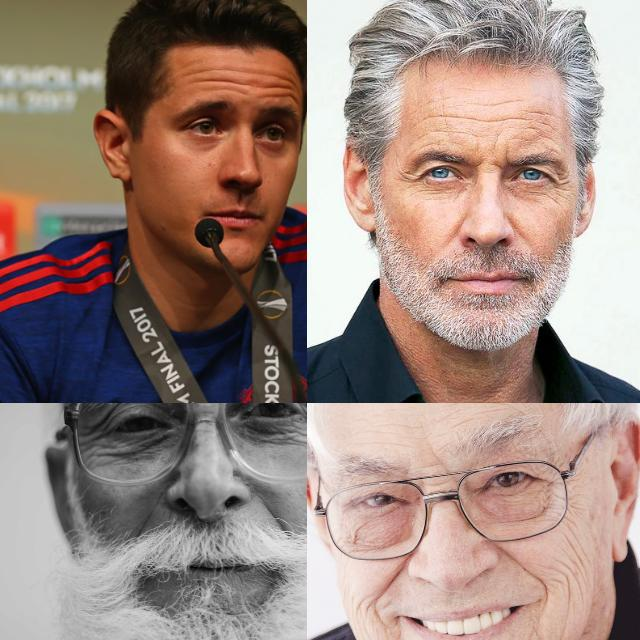crows_feet: (81, 417, 117, 455), (538, 472, 556, 516), (396, 165, 419, 193), (554, 170, 570, 200)
forehead: (446, 403, 516, 422), (422, 102, 468, 128), (266, 74, 300, 106), (523, 102, 553, 136), (187, 63, 221, 89), (479, 108, 513, 130), (228, 72, 254, 96)
frown_line: (474, 154, 504, 176), (422, 476, 454, 494)
gummy_smile: (490, 535, 536, 575), (376, 552, 408, 602), (260, 497, 296, 537), (135, 492, 157, 542)
masseter: (557, 520, 589, 598), (352, 594, 384, 632)
